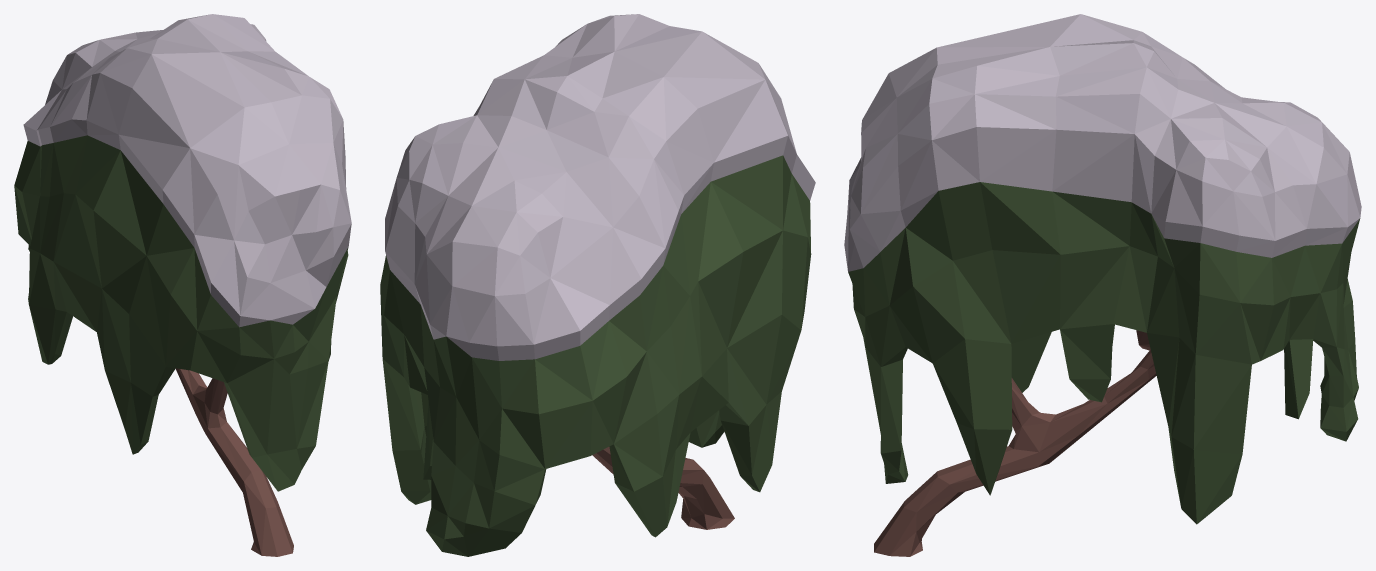
Rendered from Willow_Snow_2.lod1.glb.
The picture shows the model from 3 angles, left to right: view 1: azimuth 30°, elevation 25°; view 2: azimuth 150°, elevation 25°; view 3: azimuth 270°, elevation 25°; orthographic projection. The views are drawn at different scales.
Parts seen in each view (by area): view 1: Willow_Snow_2; view 2: Willow_Snow_2; view 3: Willow_Snow_2.
Boxes of the visible parts, bbox=[...] form: Willow_Snow_2: bbox=[14, 14, 351, 556]; Willow_Snow_2: bbox=[380, 14, 815, 556]; Willow_Snow_2: bbox=[844, 14, 1361, 556].
Size of the model in its own units: 1.95 by 3.46 by 3.16.
